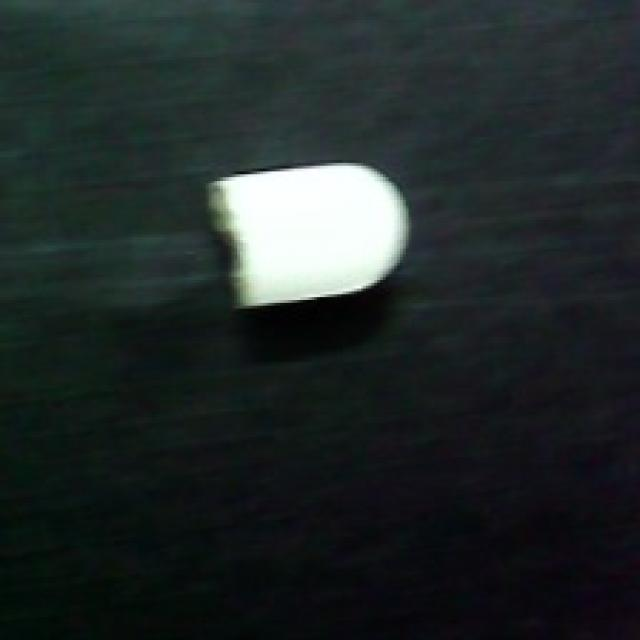defected: (183, 140, 414, 311)
